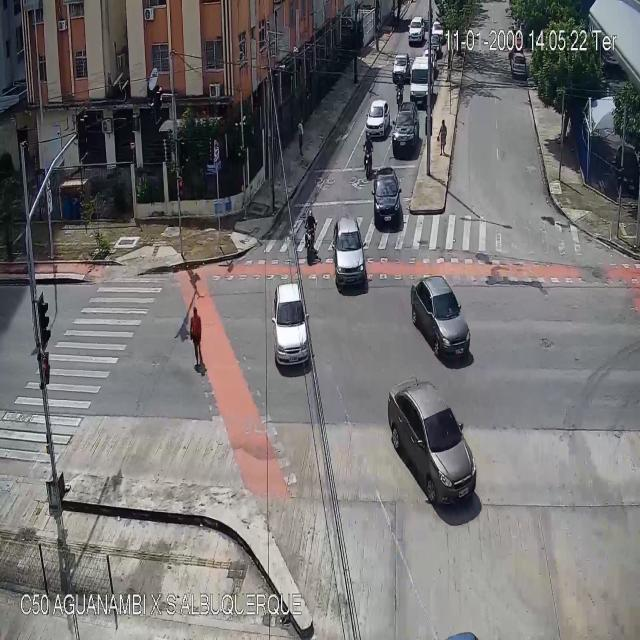Car: (388, 379, 478, 506), (411, 276, 472, 362), (272, 282, 311, 371), (334, 216, 367, 295), (371, 170, 403, 228), (393, 102, 418, 153), (410, 58, 434, 105), (367, 99, 391, 140), (408, 16, 425, 43), (391, 53, 407, 80), (512, 53, 528, 79), (433, 18, 446, 46)
Motorcycle: (303, 211, 318, 269), (364, 130, 374, 179), (395, 78, 402, 107)
